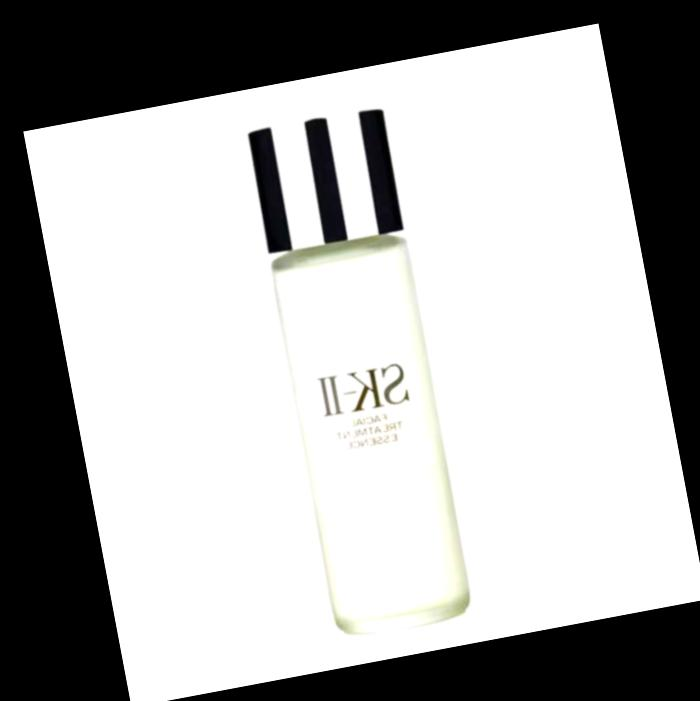cosmetic: (237, 108, 480, 644)
